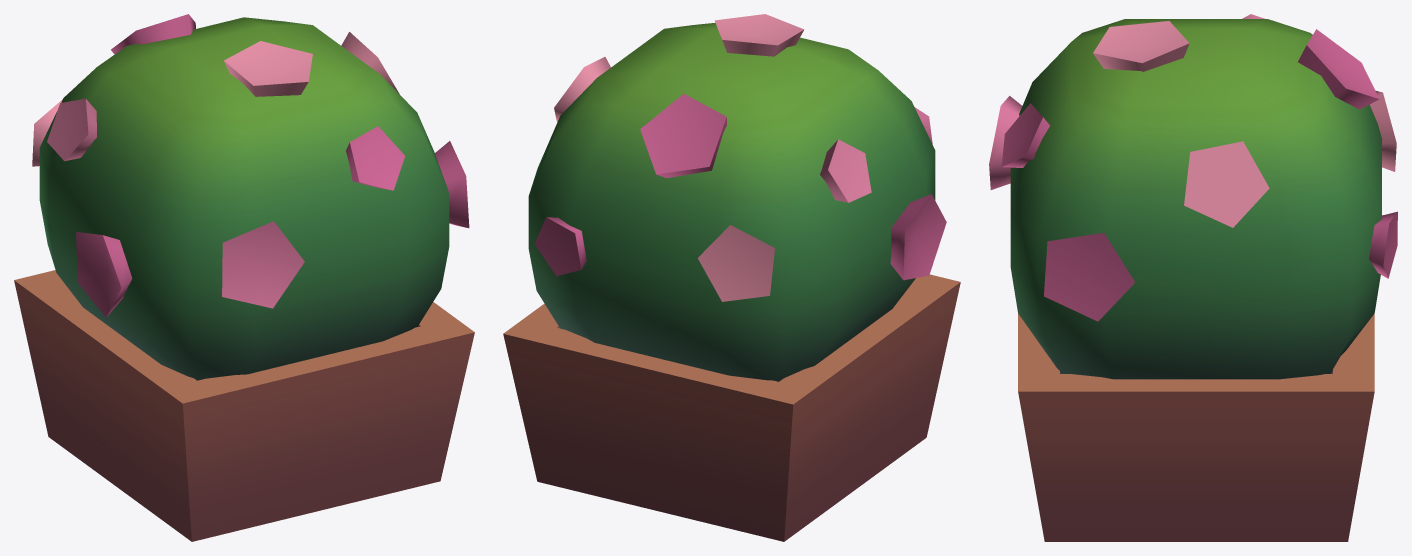
File: Potted_Bush.obj
3 renders of one model, left to right at view 1: azimuth 30°, elevation 25°; view 2: azimuth 150°, elevation 25°; view 3: azimuth 270°, elevation 25°, orthographic. The views are drawn at different scales.
Parts seen in each view (by area): view 1: {mesh}Potted_Bush_Circle; view 2: {mesh}Potted_Bush_Circle; view 3: {mesh}Potted_Bush_Circle.
Boxes of the visible parts, box(x1,y1,x2,y2) form: {mesh}Potted_Bush_Circle: box(14, 14, 474, 541); {mesh}Potted_Bush_Circle: box(503, 14, 960, 541); {mesh}Potted_Bush_Circle: box(989, 14, 1397, 541).
Bounding box in the file's own units: 58.39 × 68.24 × 57.32.
